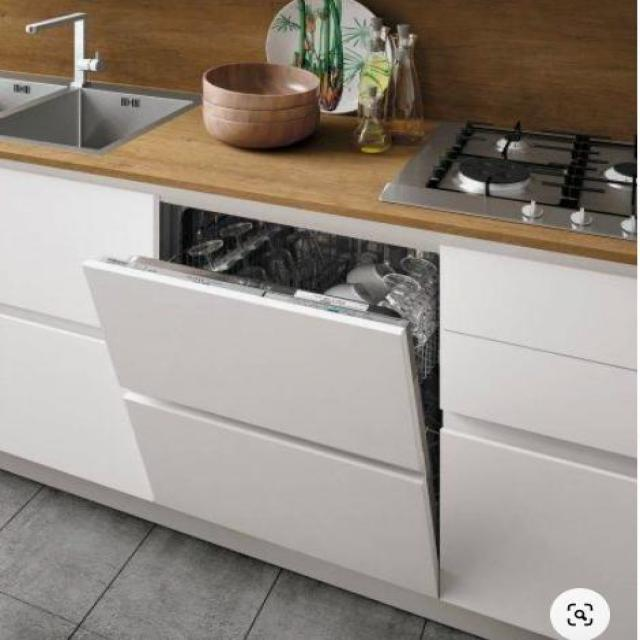dishwasher: (83, 174, 449, 606)
